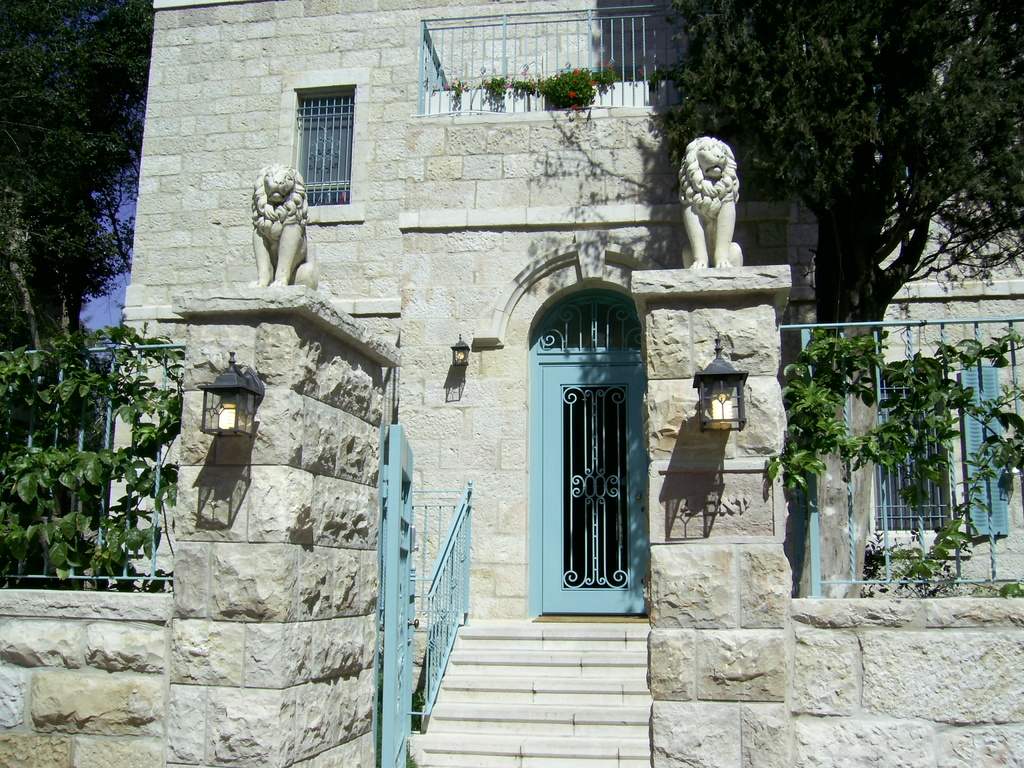door: (536, 367, 651, 602), (387, 449, 409, 750)
